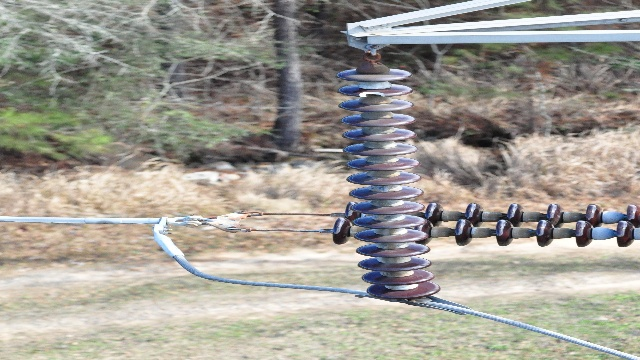broken_local: (359, 90, 387, 97)
insulator_unspecified: (330, 70, 448, 299), (324, 198, 634, 248)
